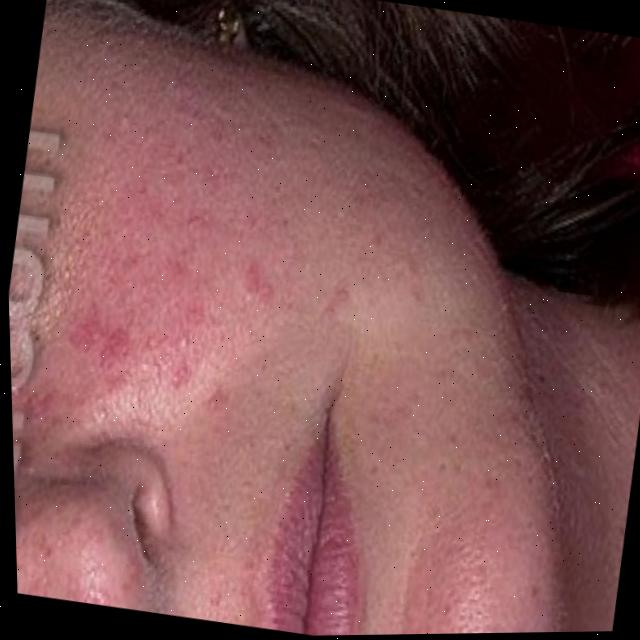Rosacea: (30, 155, 269, 437)
